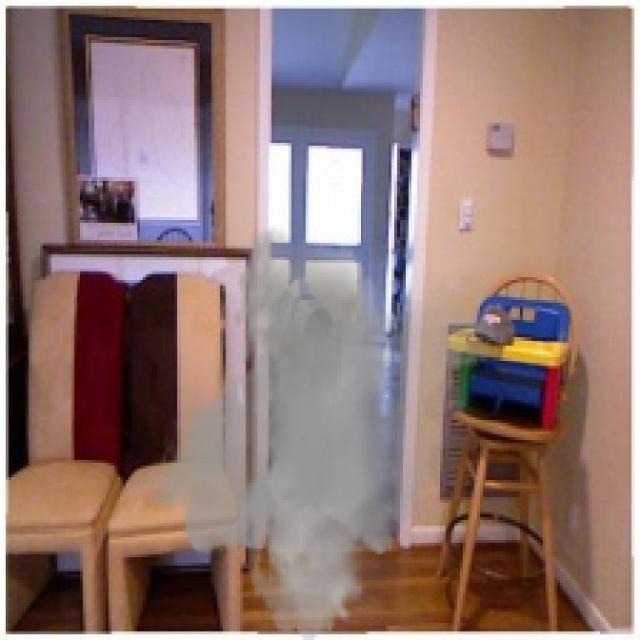Smoke: (137, 225, 512, 638)
